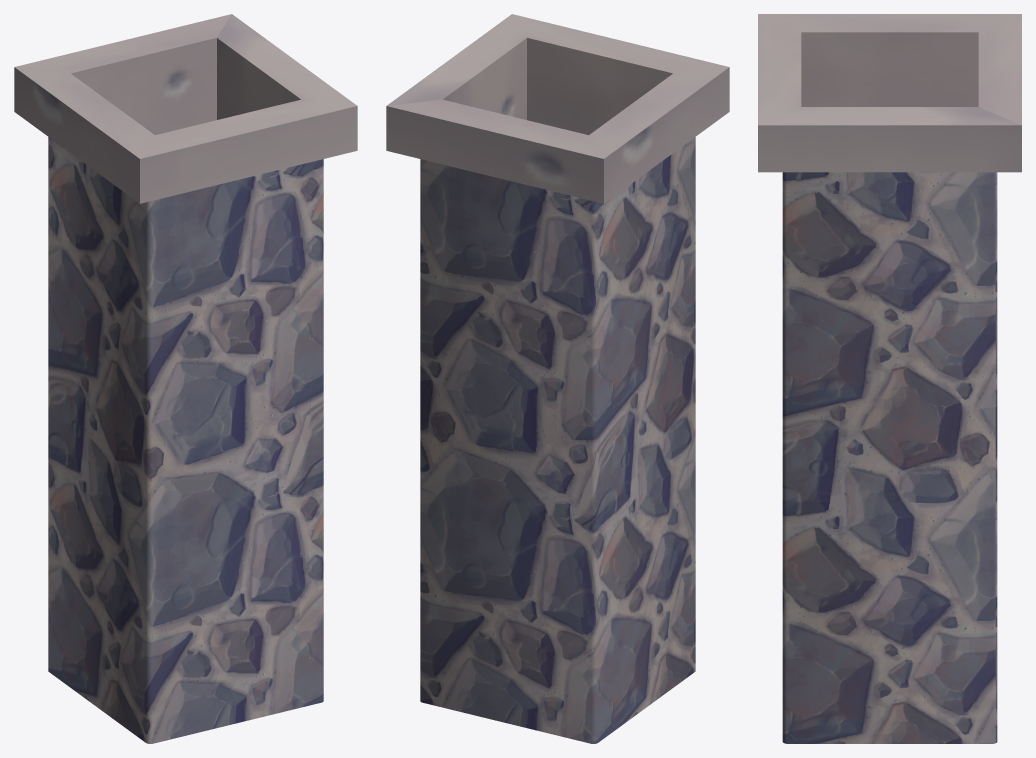
File: chimney.FBX
3 renders of one model, left to right at view 1: azimuth 30°, elevation 25°; view 2: azimuth 150°, elevation 25°; view 3: azimuth 270°, elevation 25°, orthographic. The views are drawn at different scales.
Visible parts, largest first — view 1: chimney; view 2: chimney; view 3: chimney.
Boxes of the visible parts, <box> form: chimney: <box>14,14,357,743</box>; chimney: <box>386,14,729,743</box>; chimney: <box>758,14,1021,743</box>.
Size of the model in its own units: 123 by 324 by 123.
